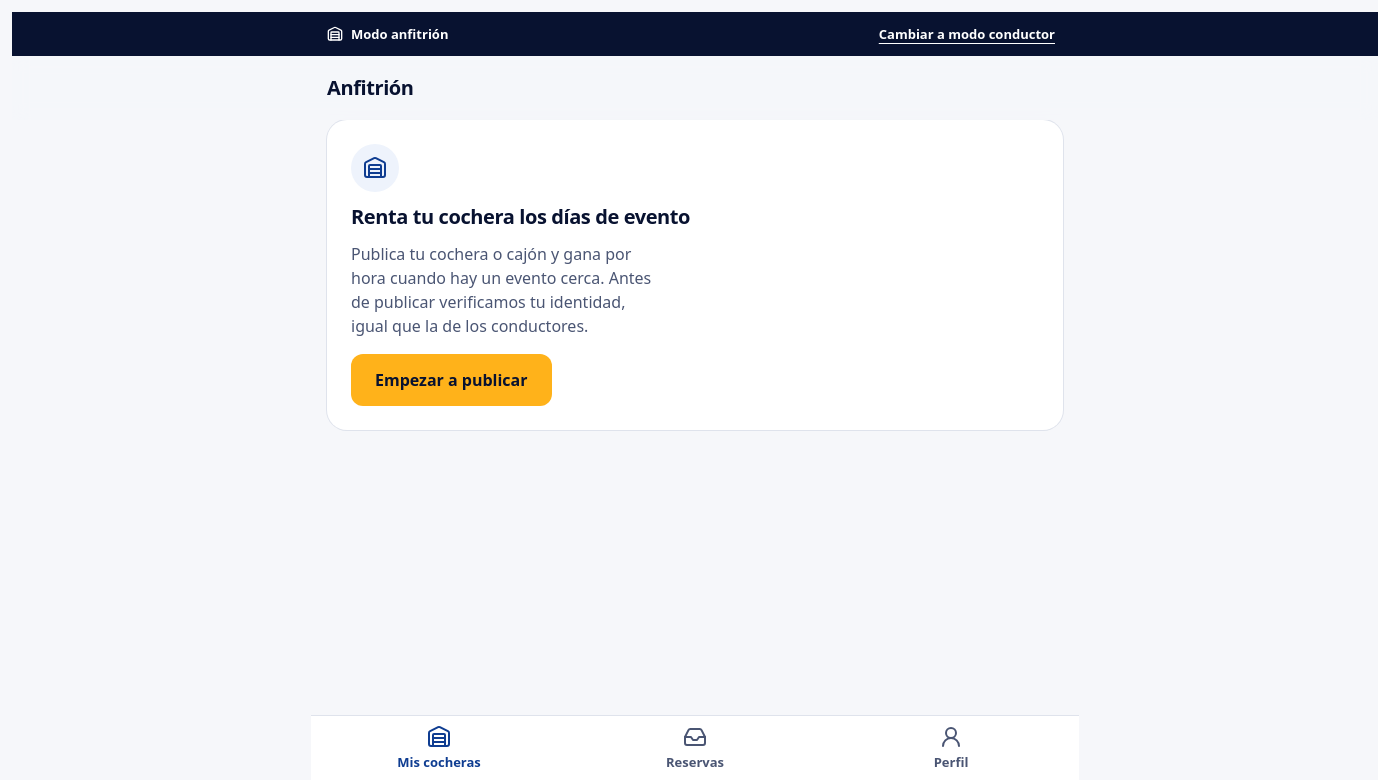
Scenario: each mode has its own bar › the banner takes the person back to driver mode in one tap
Click the button "Cambiar a modo conductor" at (967, 34), box x1=871 y1=12 x2=1063 y2=56
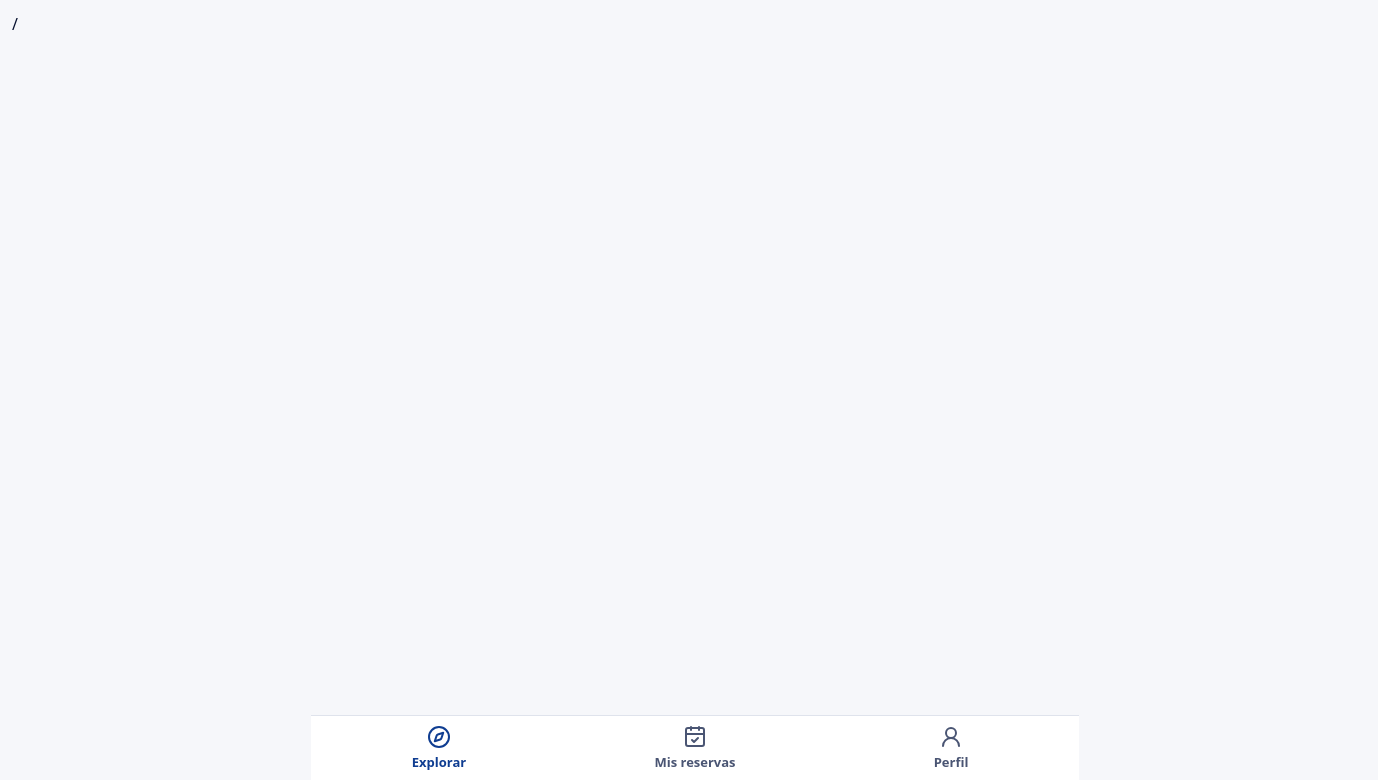
Result: the text with test id "where" reads "/" at x1=12 y1=13 x2=18 y2=35
Result: the button "Explorar" is shown at x1=311 y1=716 x2=567 y2=779
Result: the text "Modo anfitrión" is gone
